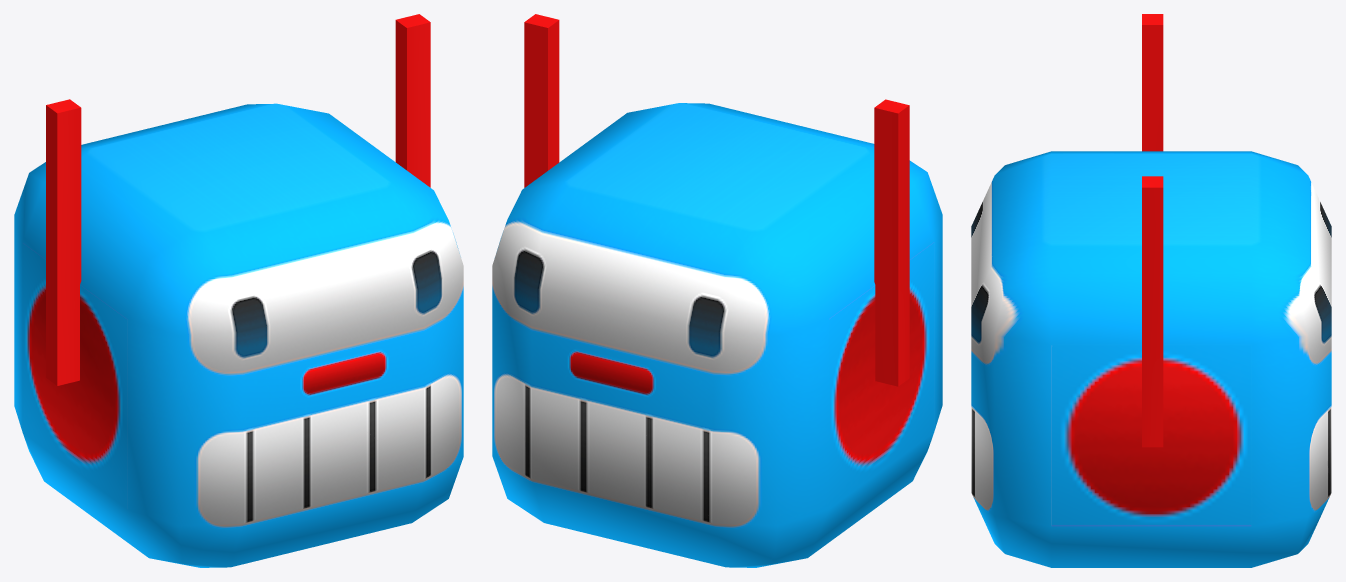
File: blue_robot.glb
The picture shows the model from 3 angles, left to right: view 1: azimuth 30°, elevation 25°; view 2: azimuth 150°, elevation 25°; view 3: azimuth 270°, elevation 25°; orthographic projection. The views are drawn at different scales.
Visible parts, largest first — view 1: Blue_Robot; view 2: Blue_Robot; view 3: Blue_Robot.
Boxes of the visible parts, x1,y1,x2,y2 form: Blue_Robot: [14, 14, 463, 567]; Blue_Robot: [492, 14, 942, 567]; Blue_Robot: [971, 14, 1331, 567].
Size of the model in its own units: 0.4562 by 0.5176 by 0.4006.
1 material, 1 textured.
